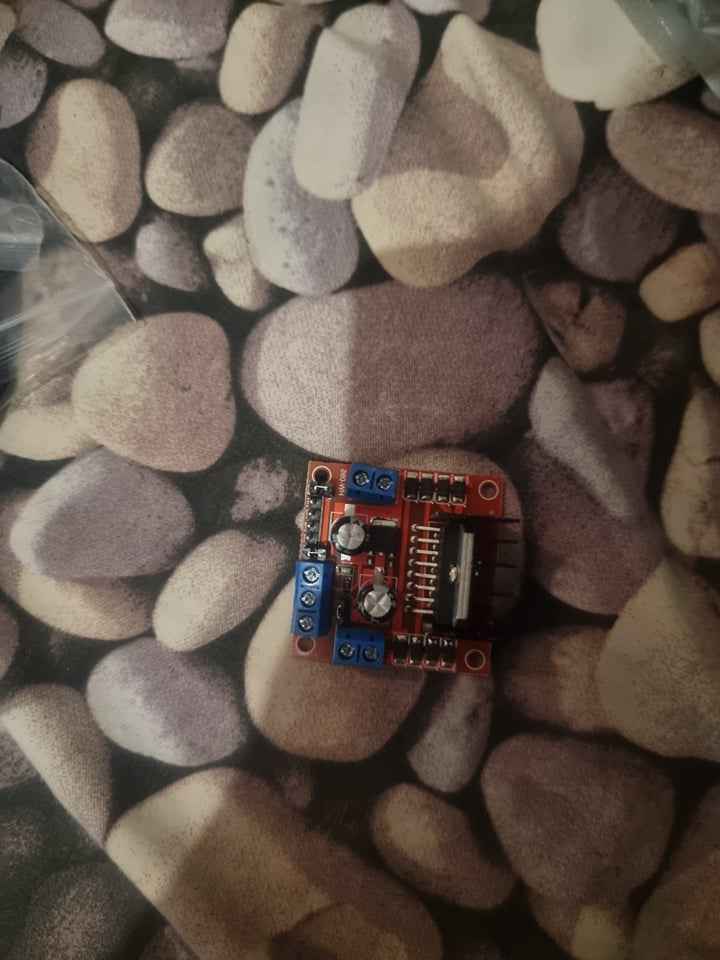MOTOR: (289, 460, 507, 683)
